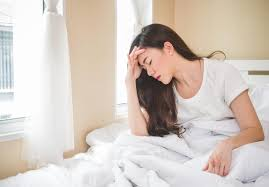no-mask: (130, 21, 182, 89)
